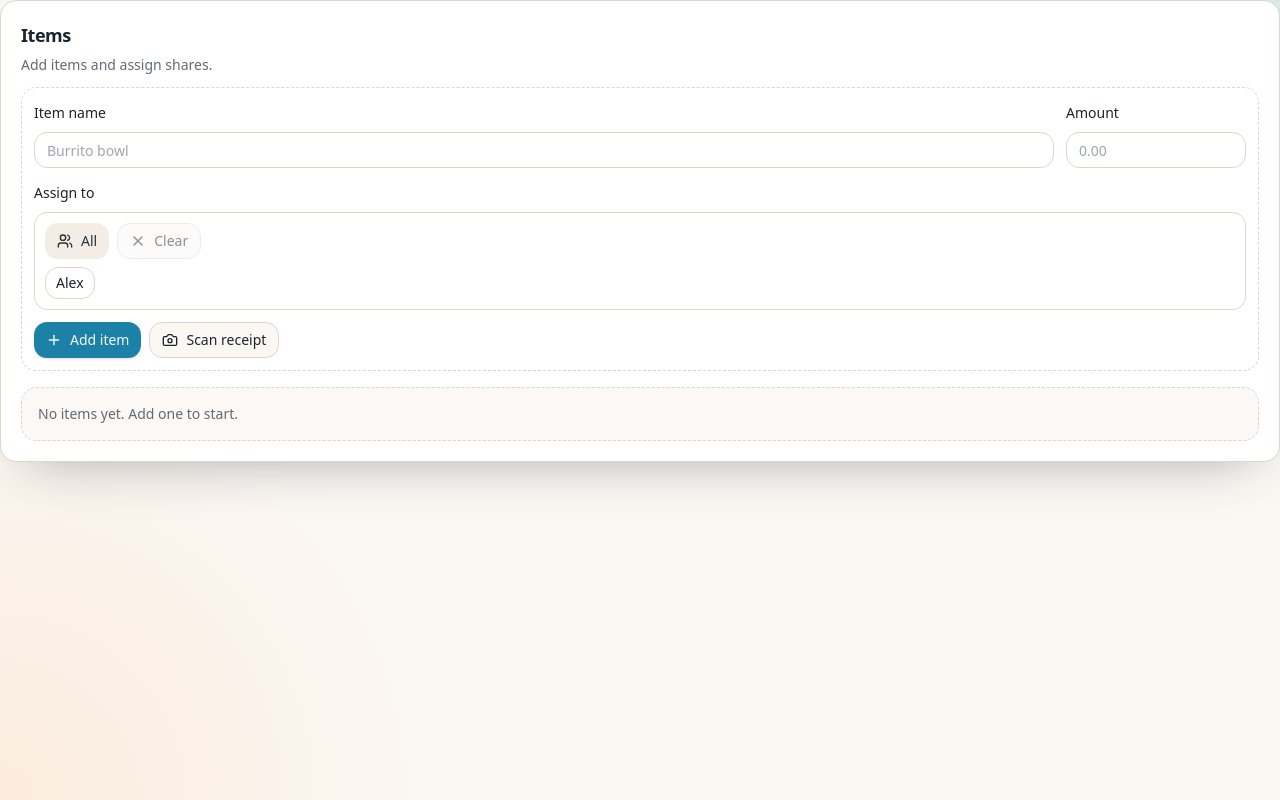
Test: ItemSection › clears a stale item-name error once the user starts correcting the draft item
This screenshot has width=1280, height=800.
Click the button "Add item".
click(88, 340)  # box [34, 322, 142, 358]
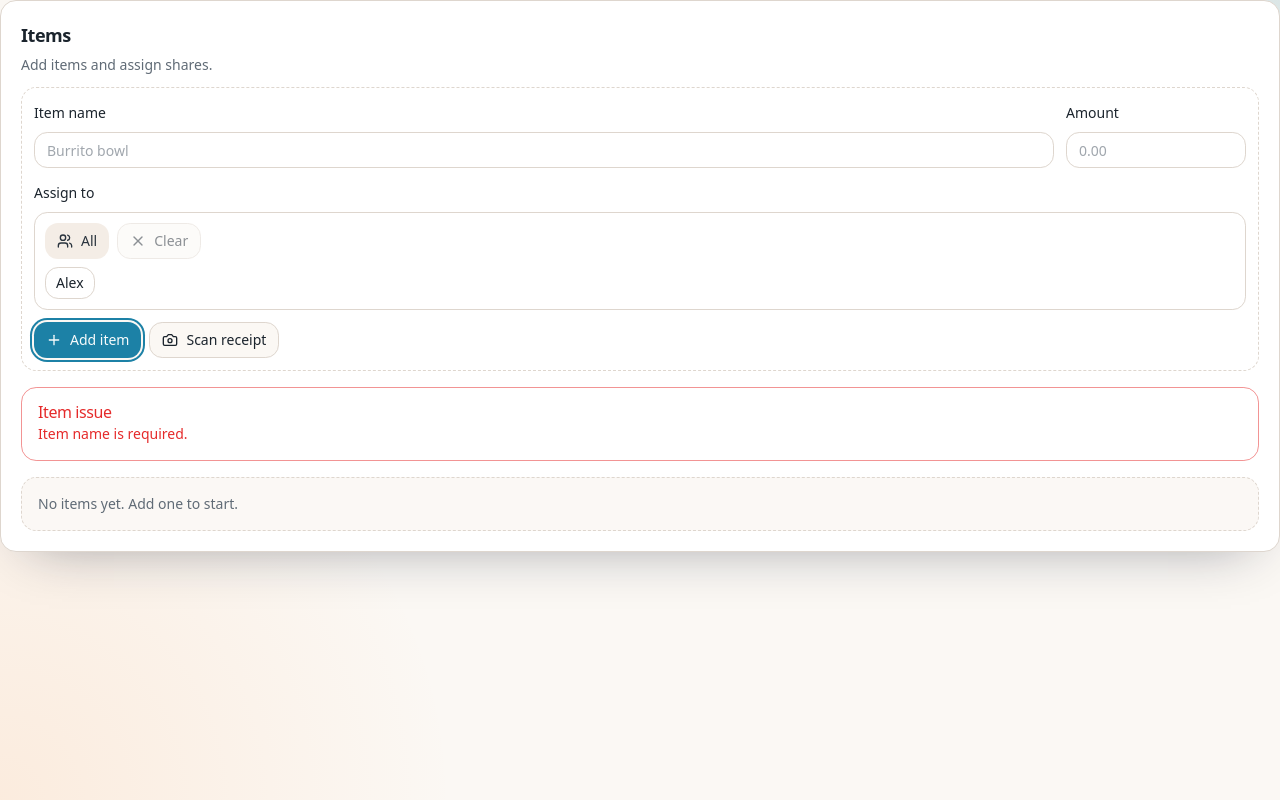
Result: the text "Item name is required." is shown at [38, 424, 188, 443]
Type "Burger" into the field labelled "Item name".
click(544, 150); type("Burger")  # box [34, 132, 1054, 168]
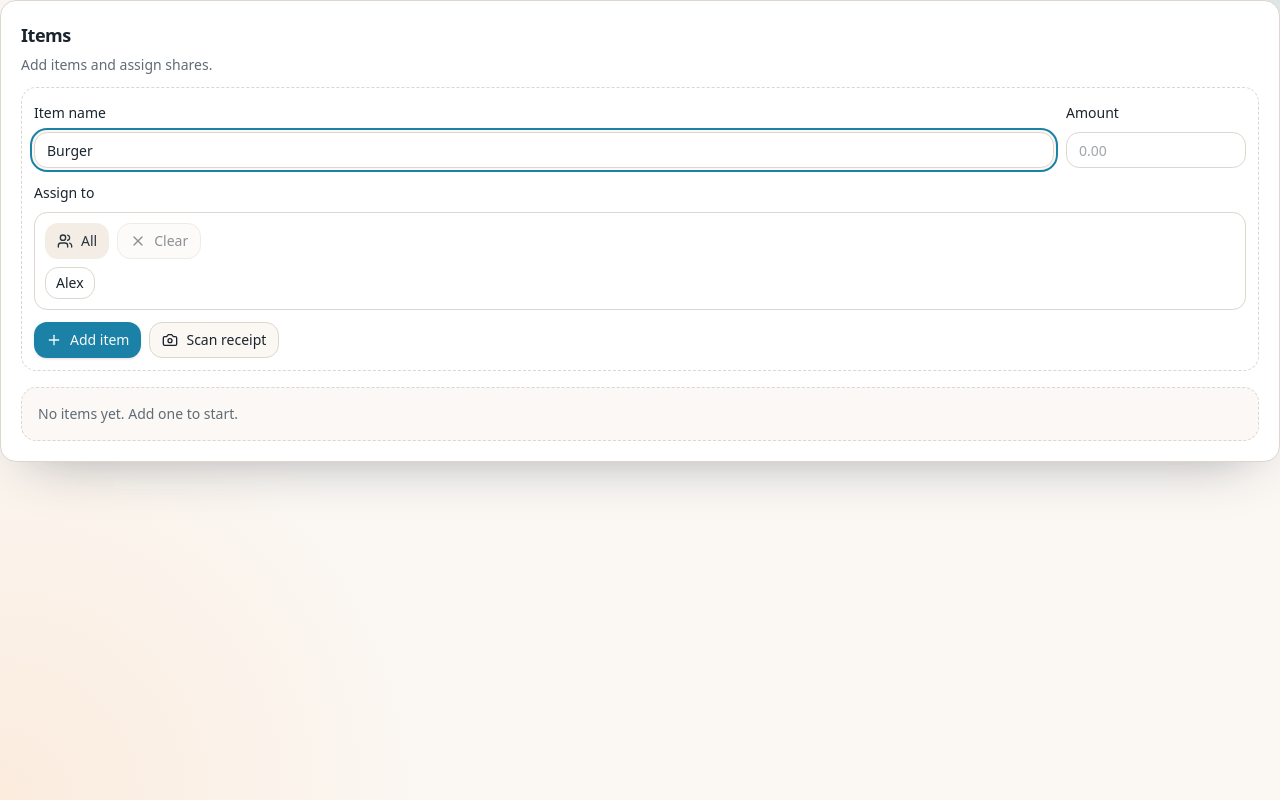
Result: the text "Item name is required." is gone
